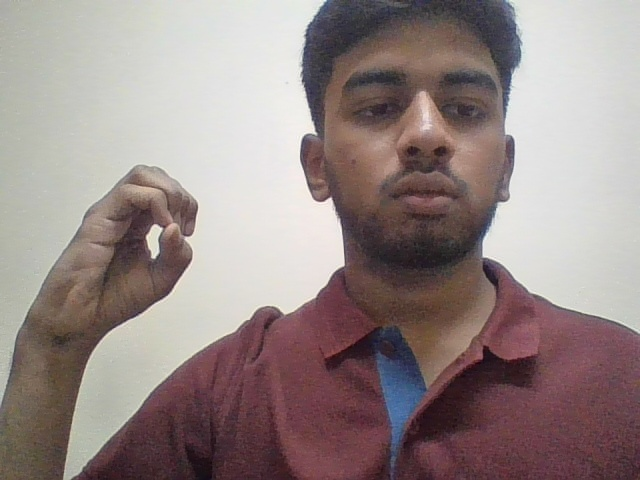O: (17, 146, 212, 345)
